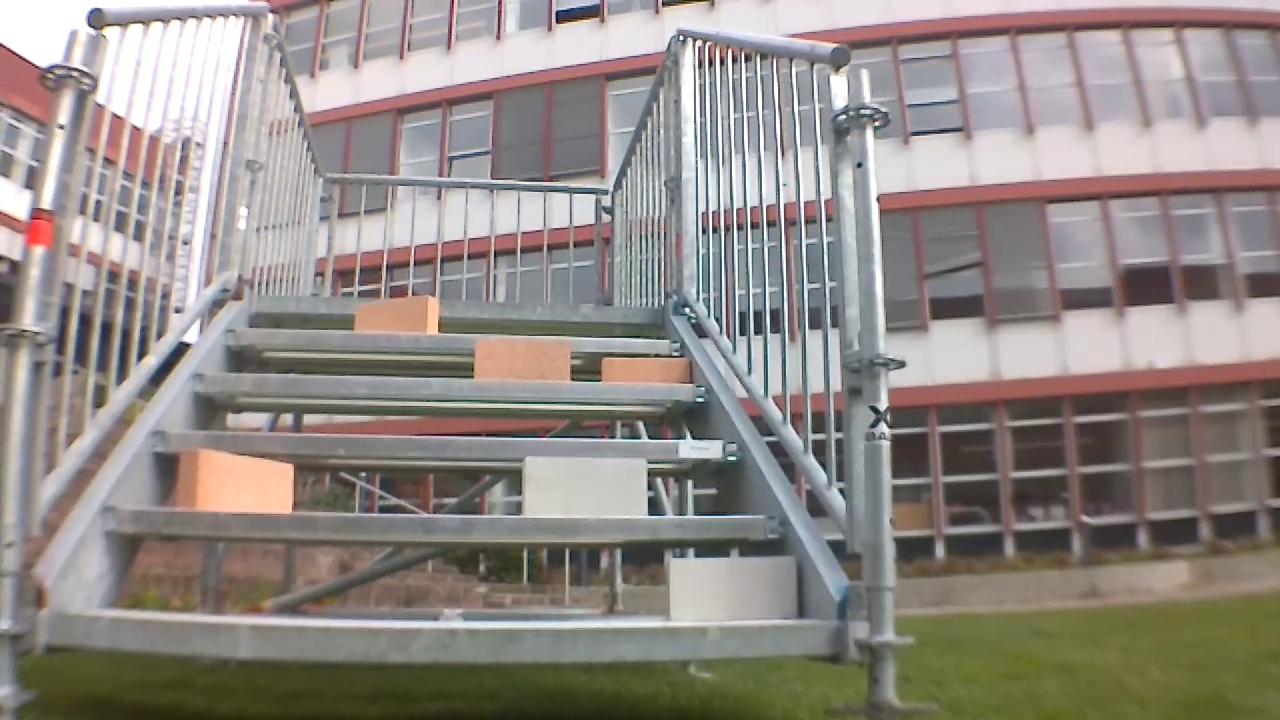brick: (670, 558, 798, 620), (522, 457, 647, 518), (180, 450, 293, 514), (474, 337, 569, 380), (353, 294, 438, 332), (601, 356, 690, 383)
edge: (45, 611, 842, 660), (107, 505, 782, 538), (151, 429, 743, 460), (193, 372, 709, 402), (228, 326, 682, 354), (255, 294, 661, 323)
stairs: (3, 5, 917, 715)
steps: (41, 285, 848, 670)
